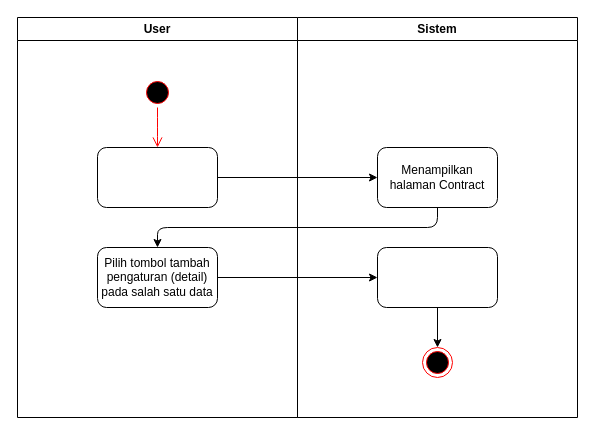
The diagram is 595 pixels wide and 435 high, and some of its shapes have lost their labels. Each missing label, with the centre of its shape:
"Membuka halaman Contract" goes at (157,177).
"Menampilkan halaman detail contract" goes at (437,277).
